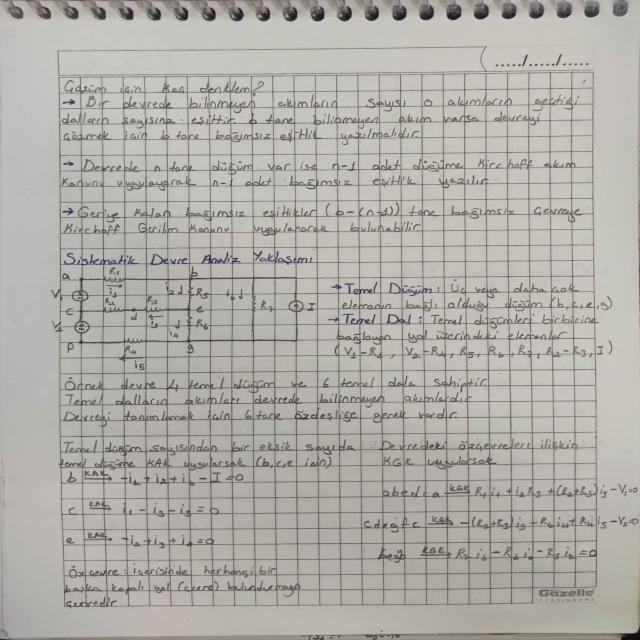image: (47, 266, 331, 372)
math: (356, 510, 640, 536), (371, 479, 640, 502), (369, 542, 601, 566), (62, 496, 226, 526), (62, 466, 251, 492), (64, 528, 222, 554)
text: (61, 76, 586, 148), (55, 372, 497, 422), (61, 200, 589, 234), (330, 280, 612, 342), (59, 158, 586, 188), (62, 562, 306, 608), (60, 436, 354, 468), (376, 436, 587, 469), (57, 248, 319, 271)
